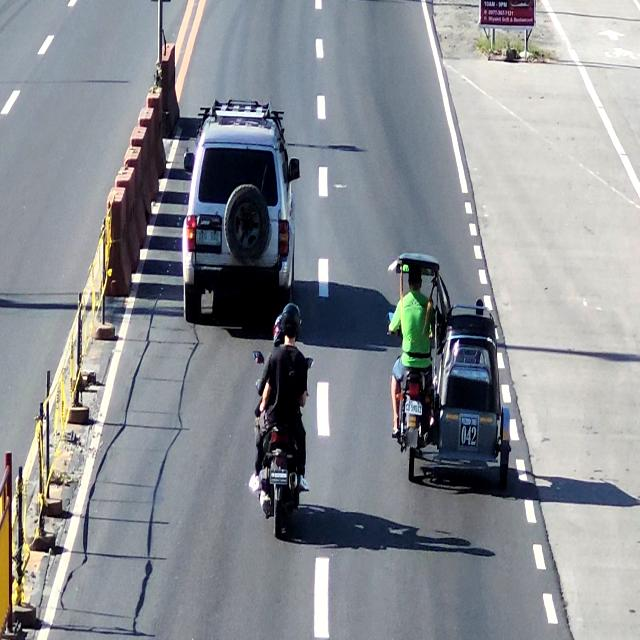Car: (184, 92, 298, 328)
License-Plate: (194, 227, 224, 250), (267, 465, 290, 491), (403, 396, 425, 418)
Motorcycle: (253, 306, 312, 544)
Tricycle: (388, 253, 508, 499)
